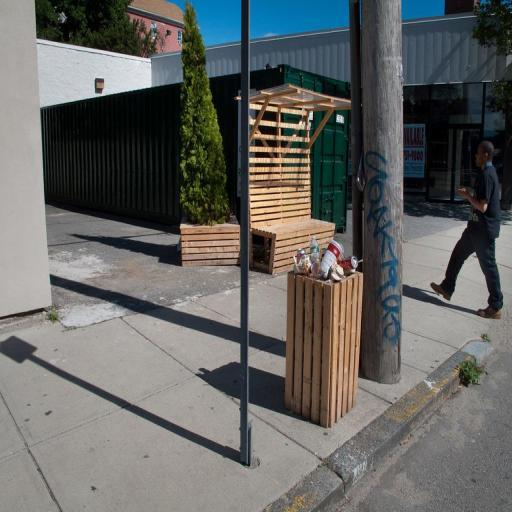trash-can: (279, 240, 368, 431)
